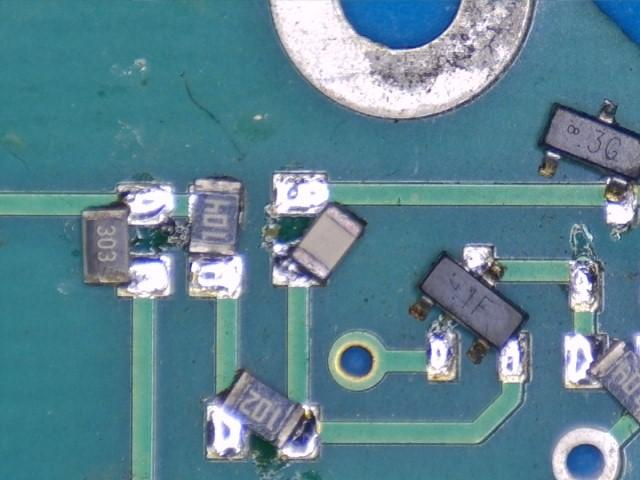Incorrect_installation: (408, 244, 530, 384), (539, 98, 640, 227), (269, 172, 367, 287), (205, 369, 322, 463), (81, 184, 174, 299), (565, 334, 640, 427), (189, 179, 245, 300)
